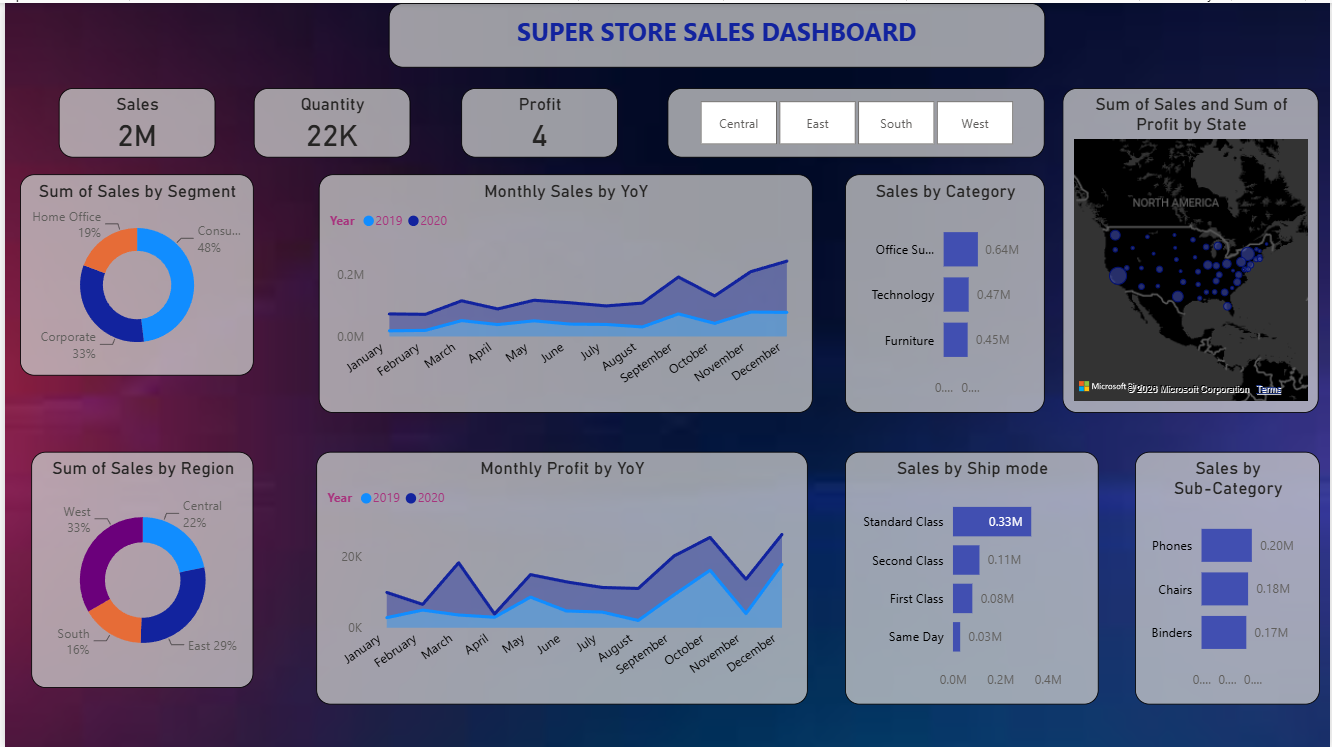

The dashboard page shown, as its layout file describes it:
{"tool":"powerbi","page":{"name":"Page 1","canvas":[1280,720],"ordinal":0},"visuals":[{"type":"clusteredBarChart","title":"Sales by Category","fields":{"Category":["SuperStore_Sales_Dataset.Category"],"Y":["Sum(SuperStore_Sales_Dataset.Sales)"]},"box":[810.7,165.3,193,230.4],"z":0},{"type":"clusteredBarChart","title":"Sales by Sub-Category","fields":{"Category":["SuperStore_Sales_Dataset.Sub-Category"],"Y":["Sum(SuperStore_Sales_Dataset.Sales)"]},"box":[1090.6,433.1,178.6,243.7],"z":1000},{"type":"clusteredBarChart","title":"Sales by Ship mode","fields":{"Category":["SuperStore_Sales_Dataset.Ship Mode"],"Y":["Sum(SuperStore_Sales_Dataset.Sales)"]},"box":[810.7,433.1,244.9,243.7],"z":2000},{"type":"stackedAreaChart","title":"Monthly Sales by YoY","fields":{"Y":["Sum(SuperStore_Sales_Dataset.Sales)"],"Category":["SuperStore_Sales_Dataset.Order Date.Variation.Date Hierarchy.Month","SuperStore_Sales_Dataset.Order Date.Variation.Date Hierarchy.Day"],"Series":["SuperStore_Sales_Dataset.Order Date.Variation.Date Hierarchy.Year"]},"box":[302.8,165.3,476.5,230.4],"z":3000},{"type":"map","fields":{"Category":["SuperStore_Sales_Dataset.State"],"Size":["Sum(SuperStore_Sales_Dataset.Sales)"]},"box":[1021.2,82.5,247.5,313.8],"z":4000},{"type":"stackedAreaChart","title":"Monthly Profit by YoY","fields":{"Category":["SuperStore_Sales_Dataset.Order Date.Variation.Date Hierarchy.Month","SuperStore_Sales_Dataset.Order Date.Variation.Date Hierarchy.Day"],"Series":["SuperStore_Sales_Dataset.Order Date.Variation.Date Hierarchy.Year"],"Y":["Sum(SuperStore_Sales_Dataset.Profit)"]},"box":[300.4,433.1,474.1,243.7],"z":5000},{"type":"donutChart","fields":{"Category":["SuperStore_Sales_Dataset.Segment"],"Y":["Sum(SuperStore_Sales_Dataset.Sales)"]},"box":[14.5,165.3,225.6,194.2],"z":6000},{"type":"donutChart","fields":{"Y":["Sum(SuperStore_Sales_Dataset.Sales)"],"Series":["SuperStore_Sales_Dataset.Region"]},"box":[25.3,433.1,214.7,228],"z":7000},{"type":"slicer","fields":{"Values":["SuperStore_Sales_Dataset.Region"]},"box":[640,82.5,363.8,67.5],"z":8000},{"type":"textbox","box":[370.4,0,633.4,62.7],"z":9000},{"type":"card","title":"Sales","fields":{"Values":["Sum(SuperStore_Sales_Dataset.Sales)"]},"box":[51.9,82,150.8,67.6],"z":10000},{"type":"card","title":"Quantity","fields":{"Values":["Sum(SuperStore_Sales_Dataset.Quantity)"]},"box":[240.1,82,150.8,67.6],"z":11000},{"type":"card","title":"Profit","fields":{"Values":["Avg(SuperStore_Sales_Dataset.AvgDelivery)"]},"box":[440.4,82,150.8,67.6],"z":12000}]}

Visuals, with their boxes in screenshot pixels (x1, y1, x2, y2), scaled from the page's 1280x720 canvas onto the 1332x747 screenshot:
"Sales by Category" clusteredBarChart: 844, 171, 1044, 411
"Sales by Sub-Category" clusteredBarChart: 1135, 449, 1321, 702
"Sales by Ship mode" clusteredBarChart: 844, 449, 1098, 702
"Monthly Sales by YoY" stackedAreaChart: 315, 171, 811, 411
map - SuperStore_Sales_Dataset.State x Sum(SuperStore_Sales_Dataset.Sales): 1063, 86, 1320, 411
"Monthly Profit by YoY" stackedAreaChart: 313, 449, 806, 702
donutChart - SuperStore_Sales_Dataset.Segment x Sum(SuperStore_Sales_Dataset.Sales): 15, 171, 250, 373
donutChart - Sum(SuperStore_Sales_Dataset.Sales) x SuperStore_Sales_Dataset.Region: 26, 449, 250, 686
slicer - SuperStore_Sales_Dataset.Region: 666, 86, 1045, 156
textbox: 385, 0, 1045, 65
"Sales" card: 54, 85, 211, 155
"Quantity" card: 250, 85, 407, 155
"Profit" card: 458, 85, 615, 155
